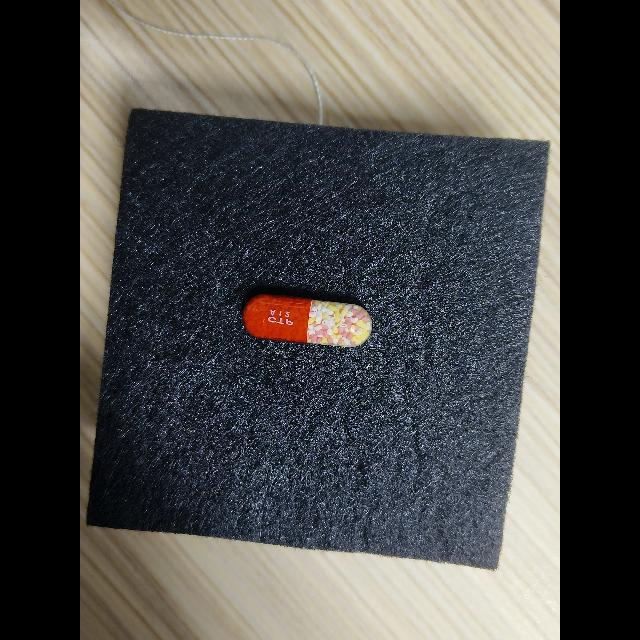Intact Capsule: (242, 295, 372, 347)
